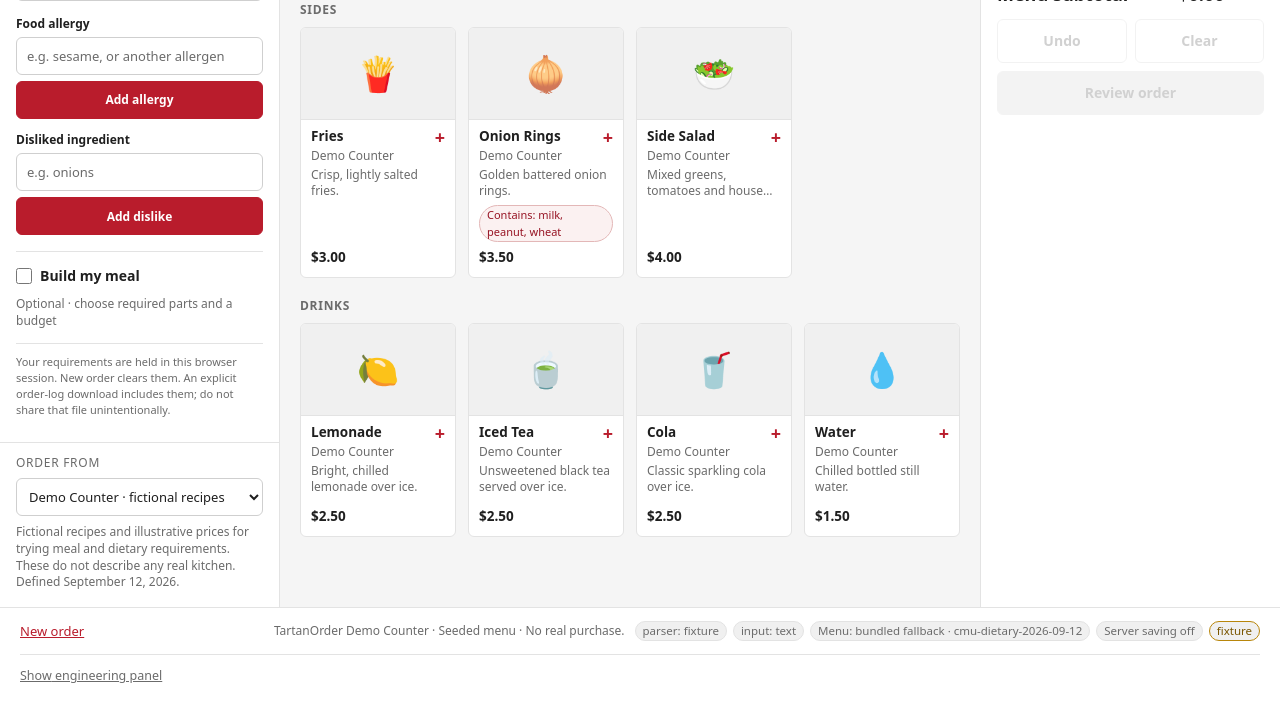
Test: engineering panel server copy › disables the fetch when saving is off
(page scrolled)
Step 1. Click the button with test id "eng-toggle" → click(91, 676), box [20,661,162,691]
(page scrolled)
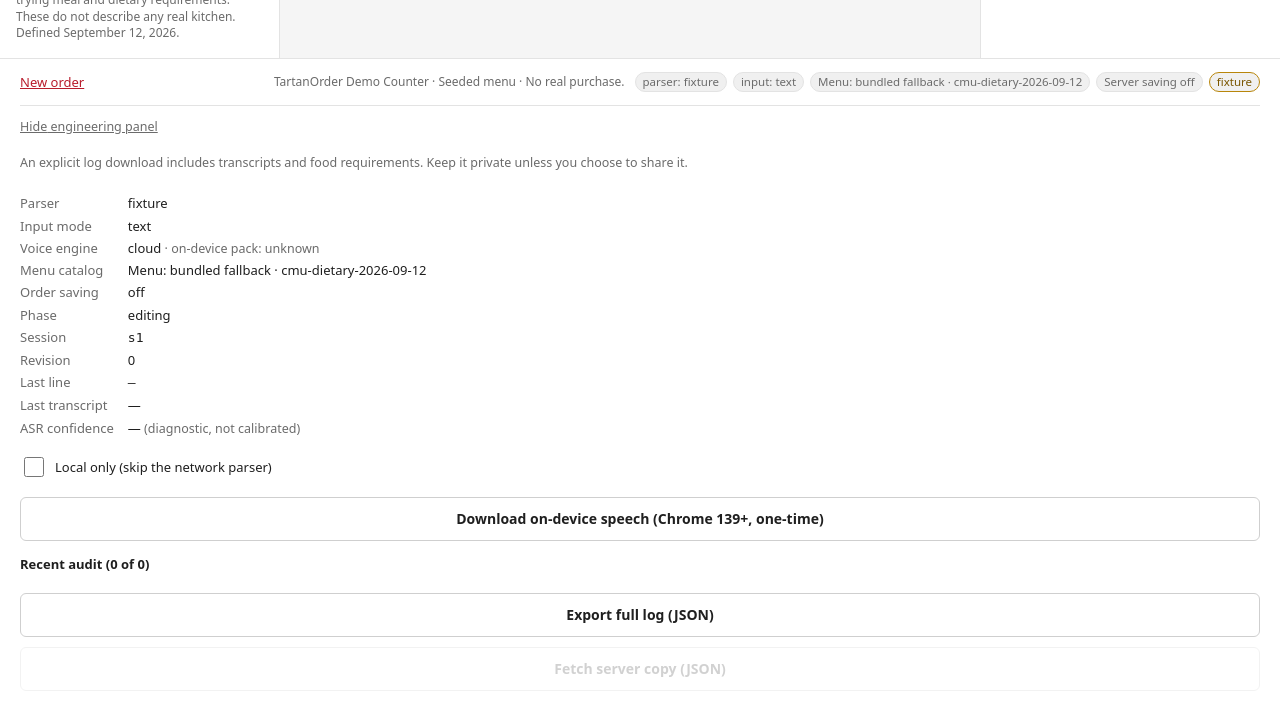
Expected: the button with test id "fetch-server-log" is disabled, [20,647,1260,691]
